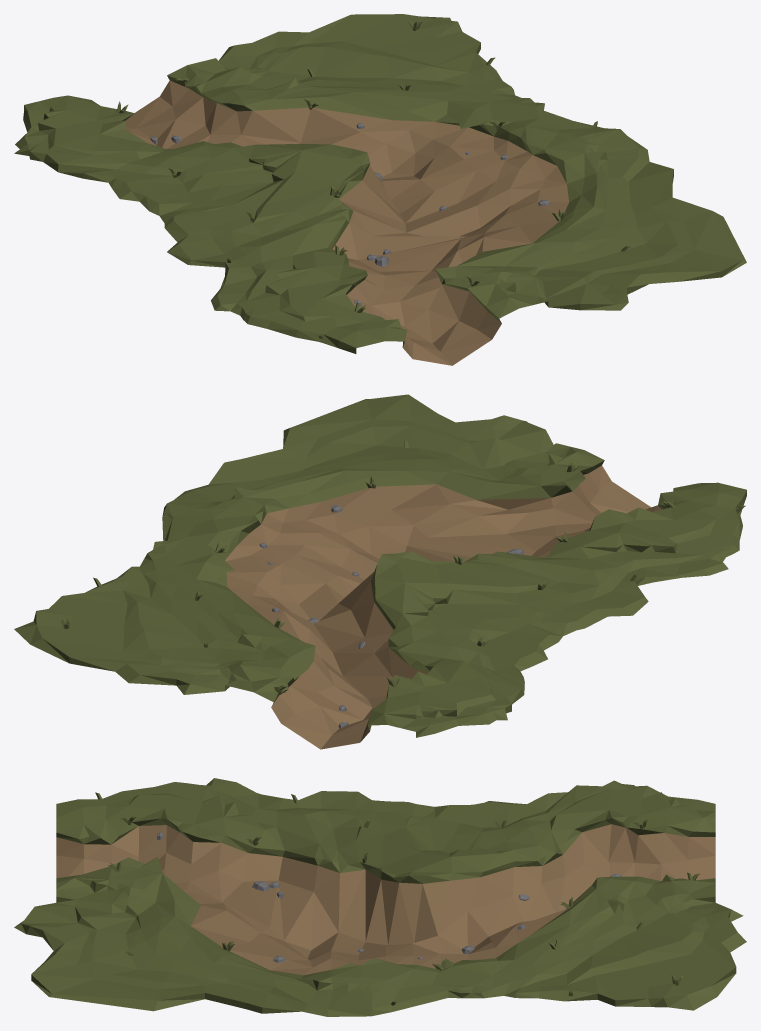
File: SM_Env_Stream_Straight_02.gltf
3 views of the same model, one above another, from view 1: azimuth 30°, elevation 25°; view 2: azimuth 150°, elevation 25°; view 3: azimuth 270°, elevation 25° (orthographic).
Visible parts, largest first — view 1: SM_Env_Stream_Straight_02; view 2: SM_Env_Stream_Straight_02; view 3: SM_Env_Stream_Straight_02.
Part boxes in pixels (x1=…): SM_Env_Stream_Straight_02: x1=14, y1=14, x2=746, y2=365; SM_Env_Stream_Straight_02: x1=14, y1=394, x2=746, y2=749; SM_Env_Stream_Straight_02: x1=14, y1=778, x2=746, y2=1016.
Size of the model in its own units: 12.76 by 1.53 by 16.68.
1 material, 1 textured.
